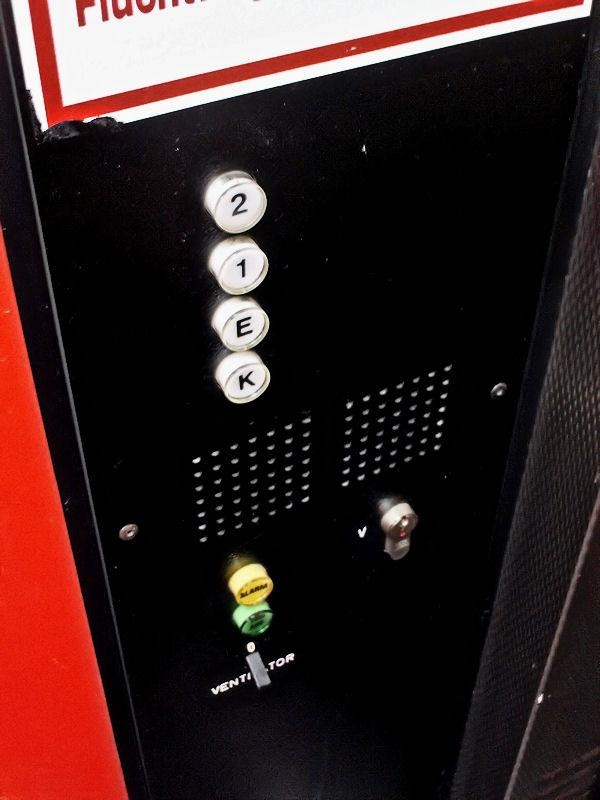1: (205, 234, 271, 297)
2: (201, 168, 271, 235)
E: (207, 295, 271, 352)
K: (211, 352, 272, 406)
keyhole: (377, 501, 419, 563)
text: (226, 562, 275, 605), (230, 605, 274, 637)
